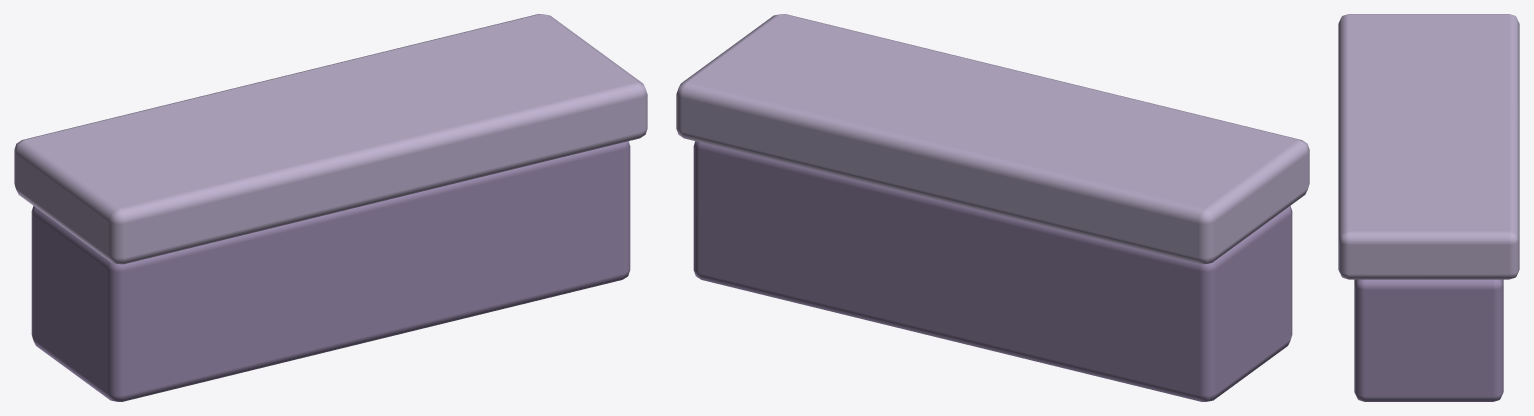
The model's file is parede_baixa.glb.
3 views of the same model, side by side, from view 1: azimuth 30°, elevation 25°; view 2: azimuth 150°, elevation 25°; view 3: azimuth 270°, elevation 25° (orthographic). The views are drawn at different scales.
Parts seen in each view (by area): view 1: Faixa; view 2: Faixa; view 3: Faixa.
Boxes of the visible parts, <box> form: Faixa: <box>14,14,647,401</box>; Faixa: <box>676,14,1309,401</box>; Faixa: <box>1338,14,1519,401</box>.
Bounding box in the file's own units: 1 × 0.36 × 0.34.
